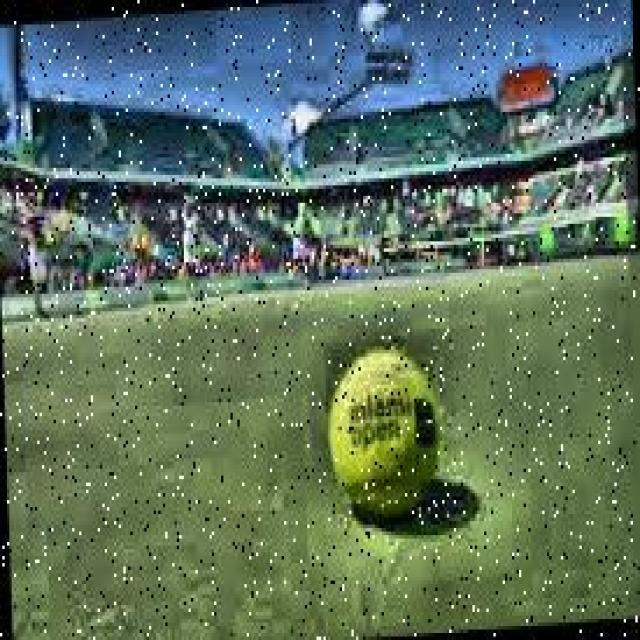tennis-ball: (324, 332, 464, 532)
